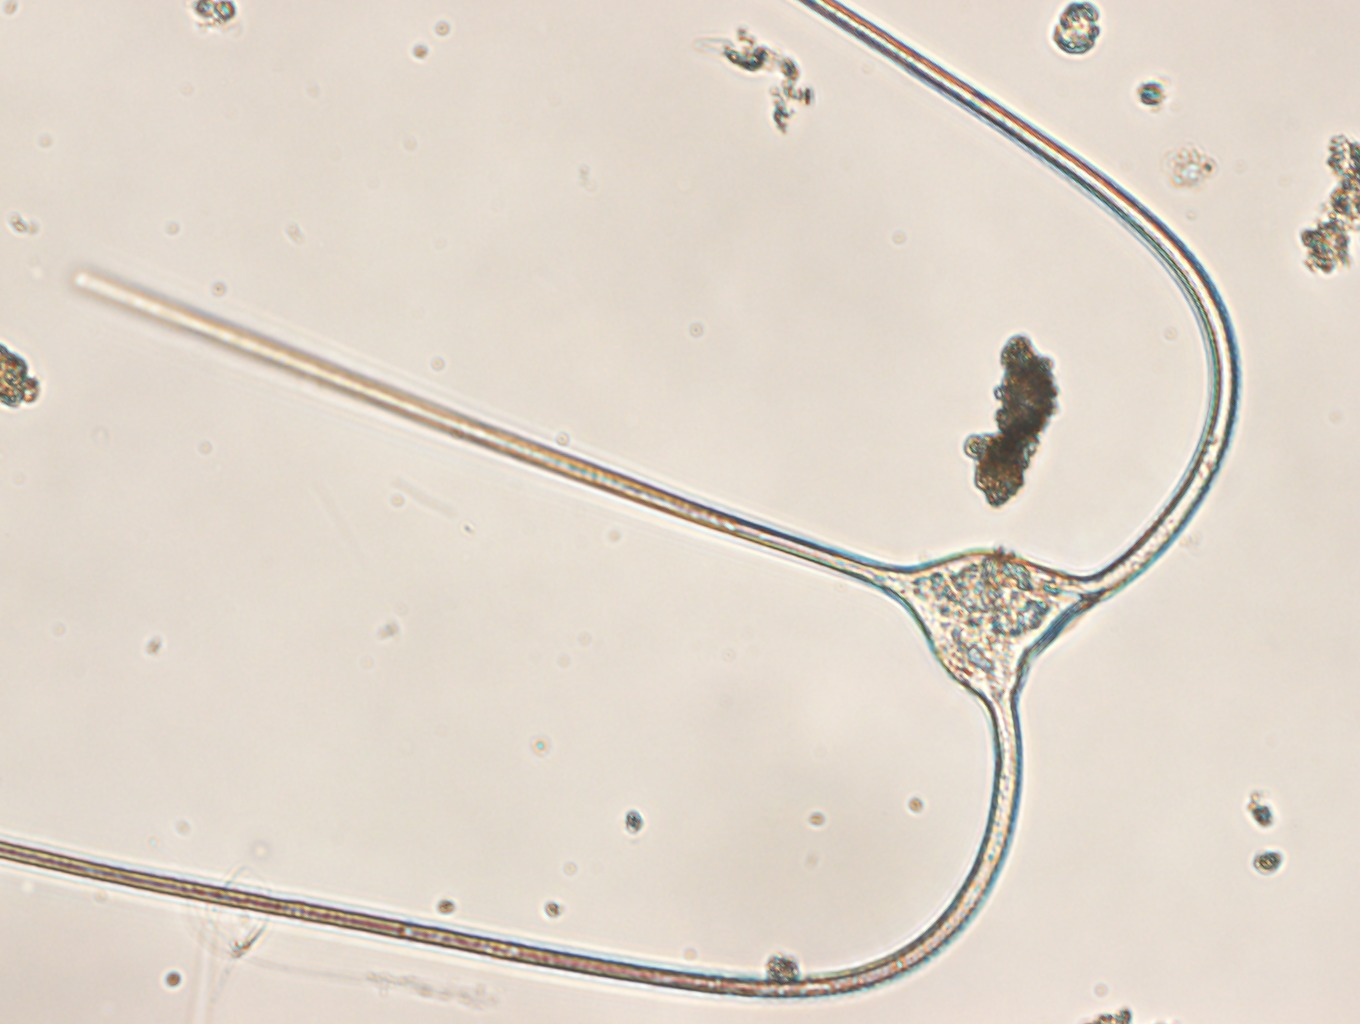ceratium trichoceros: (3, 4, 1243, 999)
